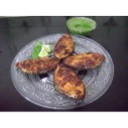seerfish: (55, 63, 86, 99), (14, 55, 59, 75), (66, 53, 104, 70), (54, 32, 75, 58)
